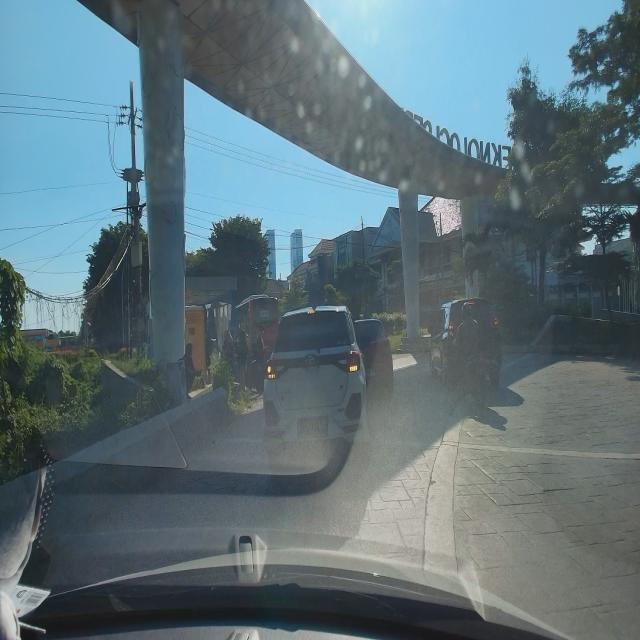car: (262, 304, 367, 474), (427, 293, 503, 387)
